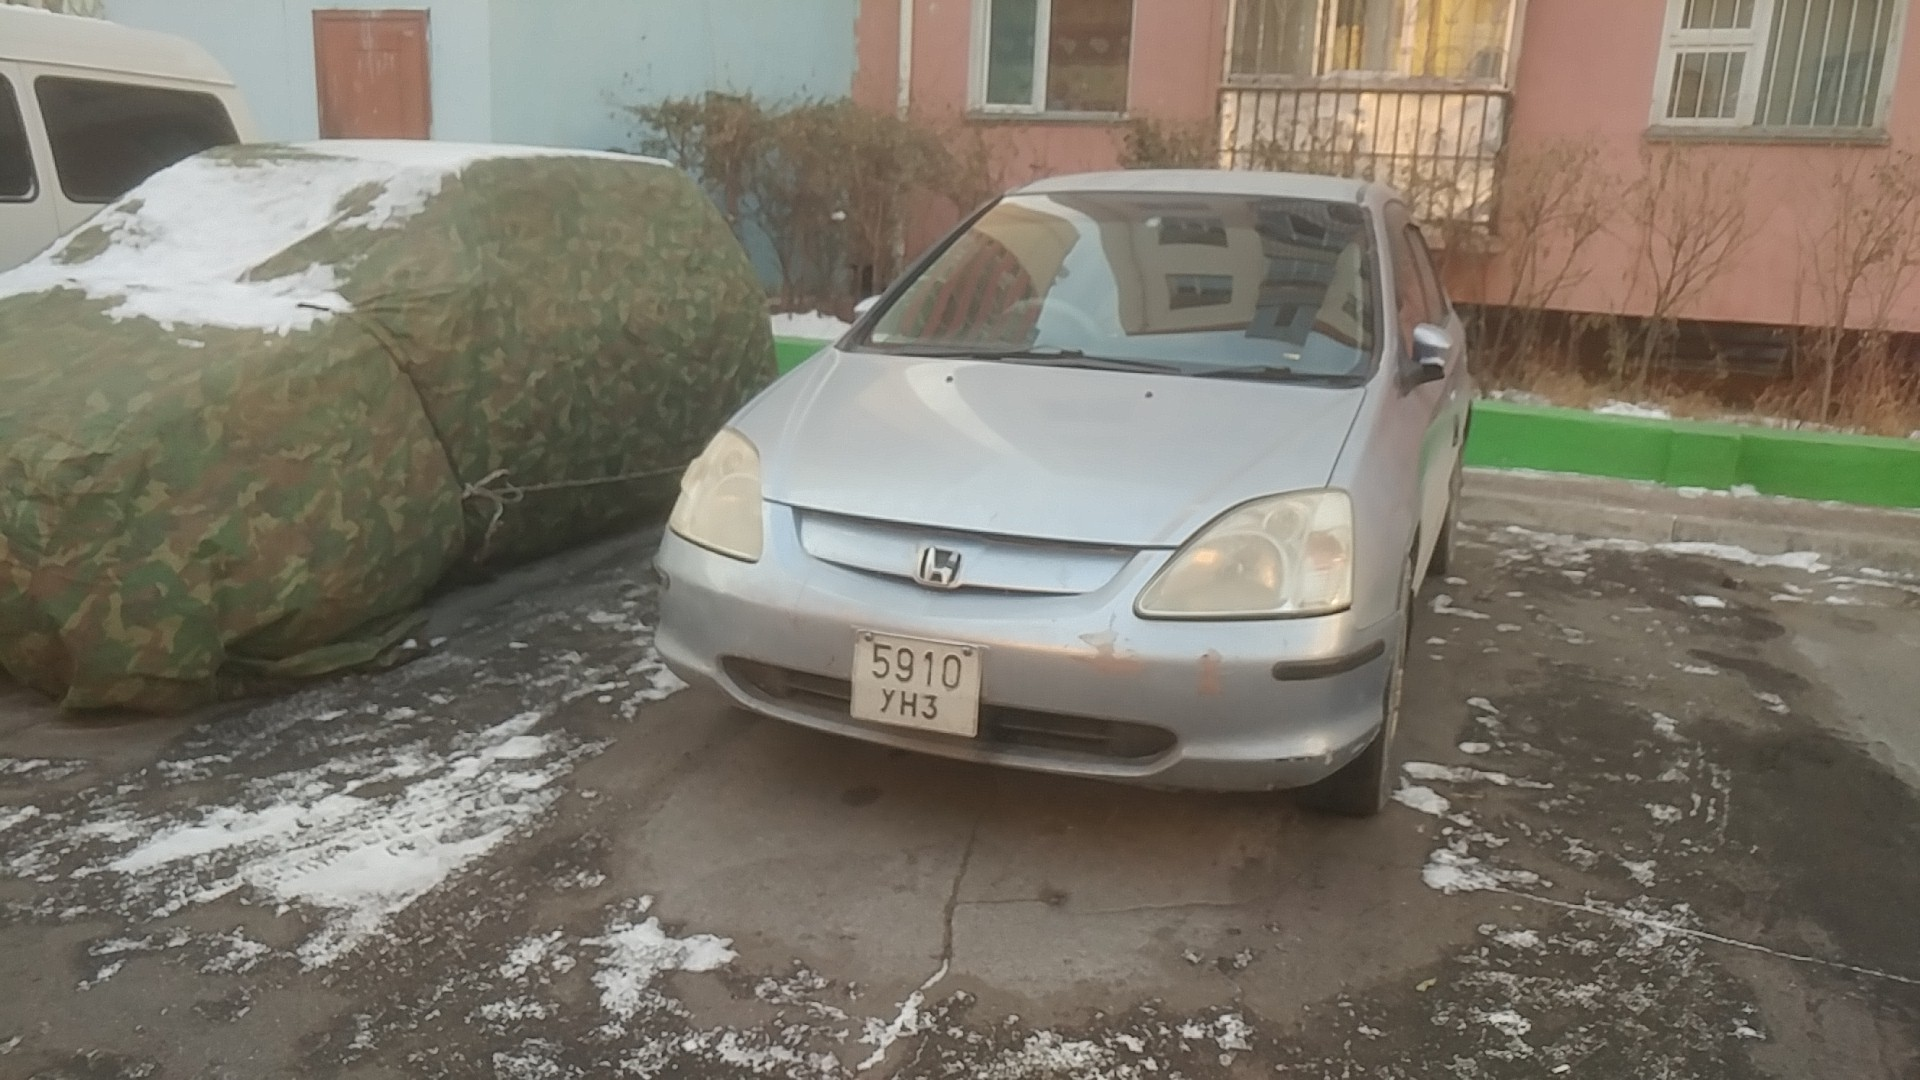0: (940, 651, 964, 691)
1: (922, 649, 936, 686)
5: (872, 641, 892, 679)
9: (895, 645, 917, 684)
n: (899, 688, 919, 717)
plate: (845, 624, 987, 742)
u: (880, 686, 895, 713)
z: (920, 691, 939, 719)
